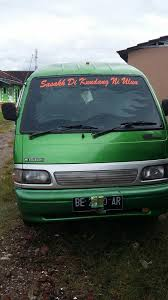plate: (73, 195, 122, 211)
